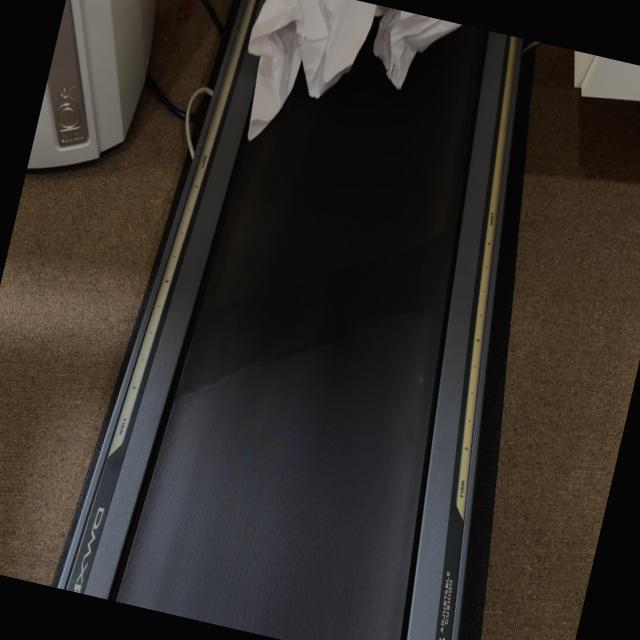Recycle: (223, 0, 376, 172), (361, 5, 464, 111)
